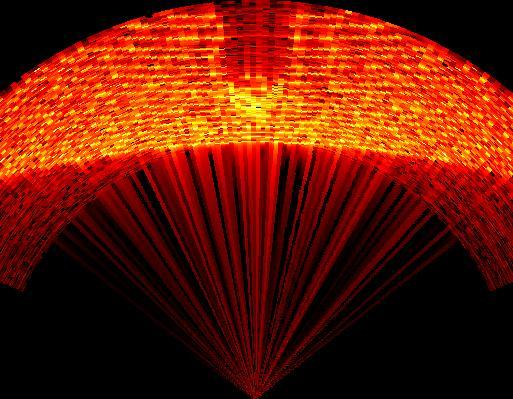box_crate: (222, 2, 296, 96)
